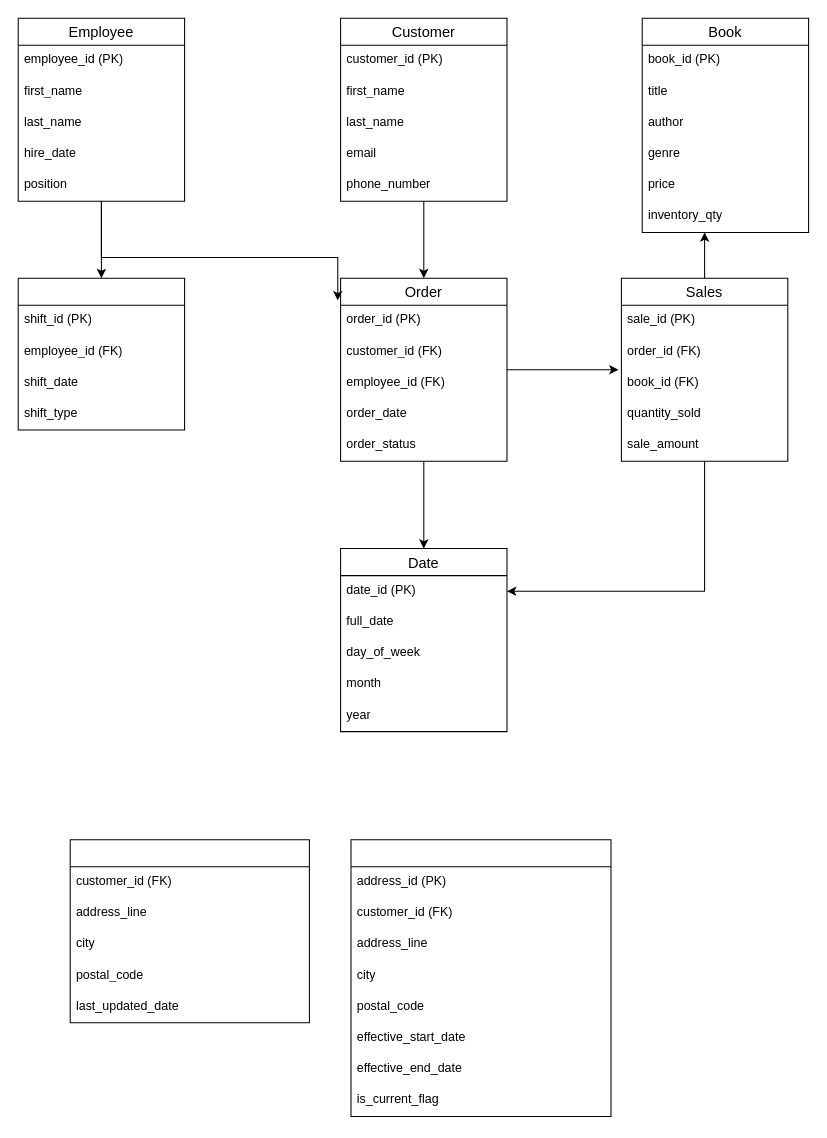
This 827x1138 diagram has some shape labels left out. Here are the shapes that lost their labels. From the top down, the box of each, then its label:
(17, 277, 185, 430): Employee_Shift
(69, 839, 309, 1023): Customer_Address (Type1)
(350, 839, 611, 1116): Customer_Address (Type 2)
